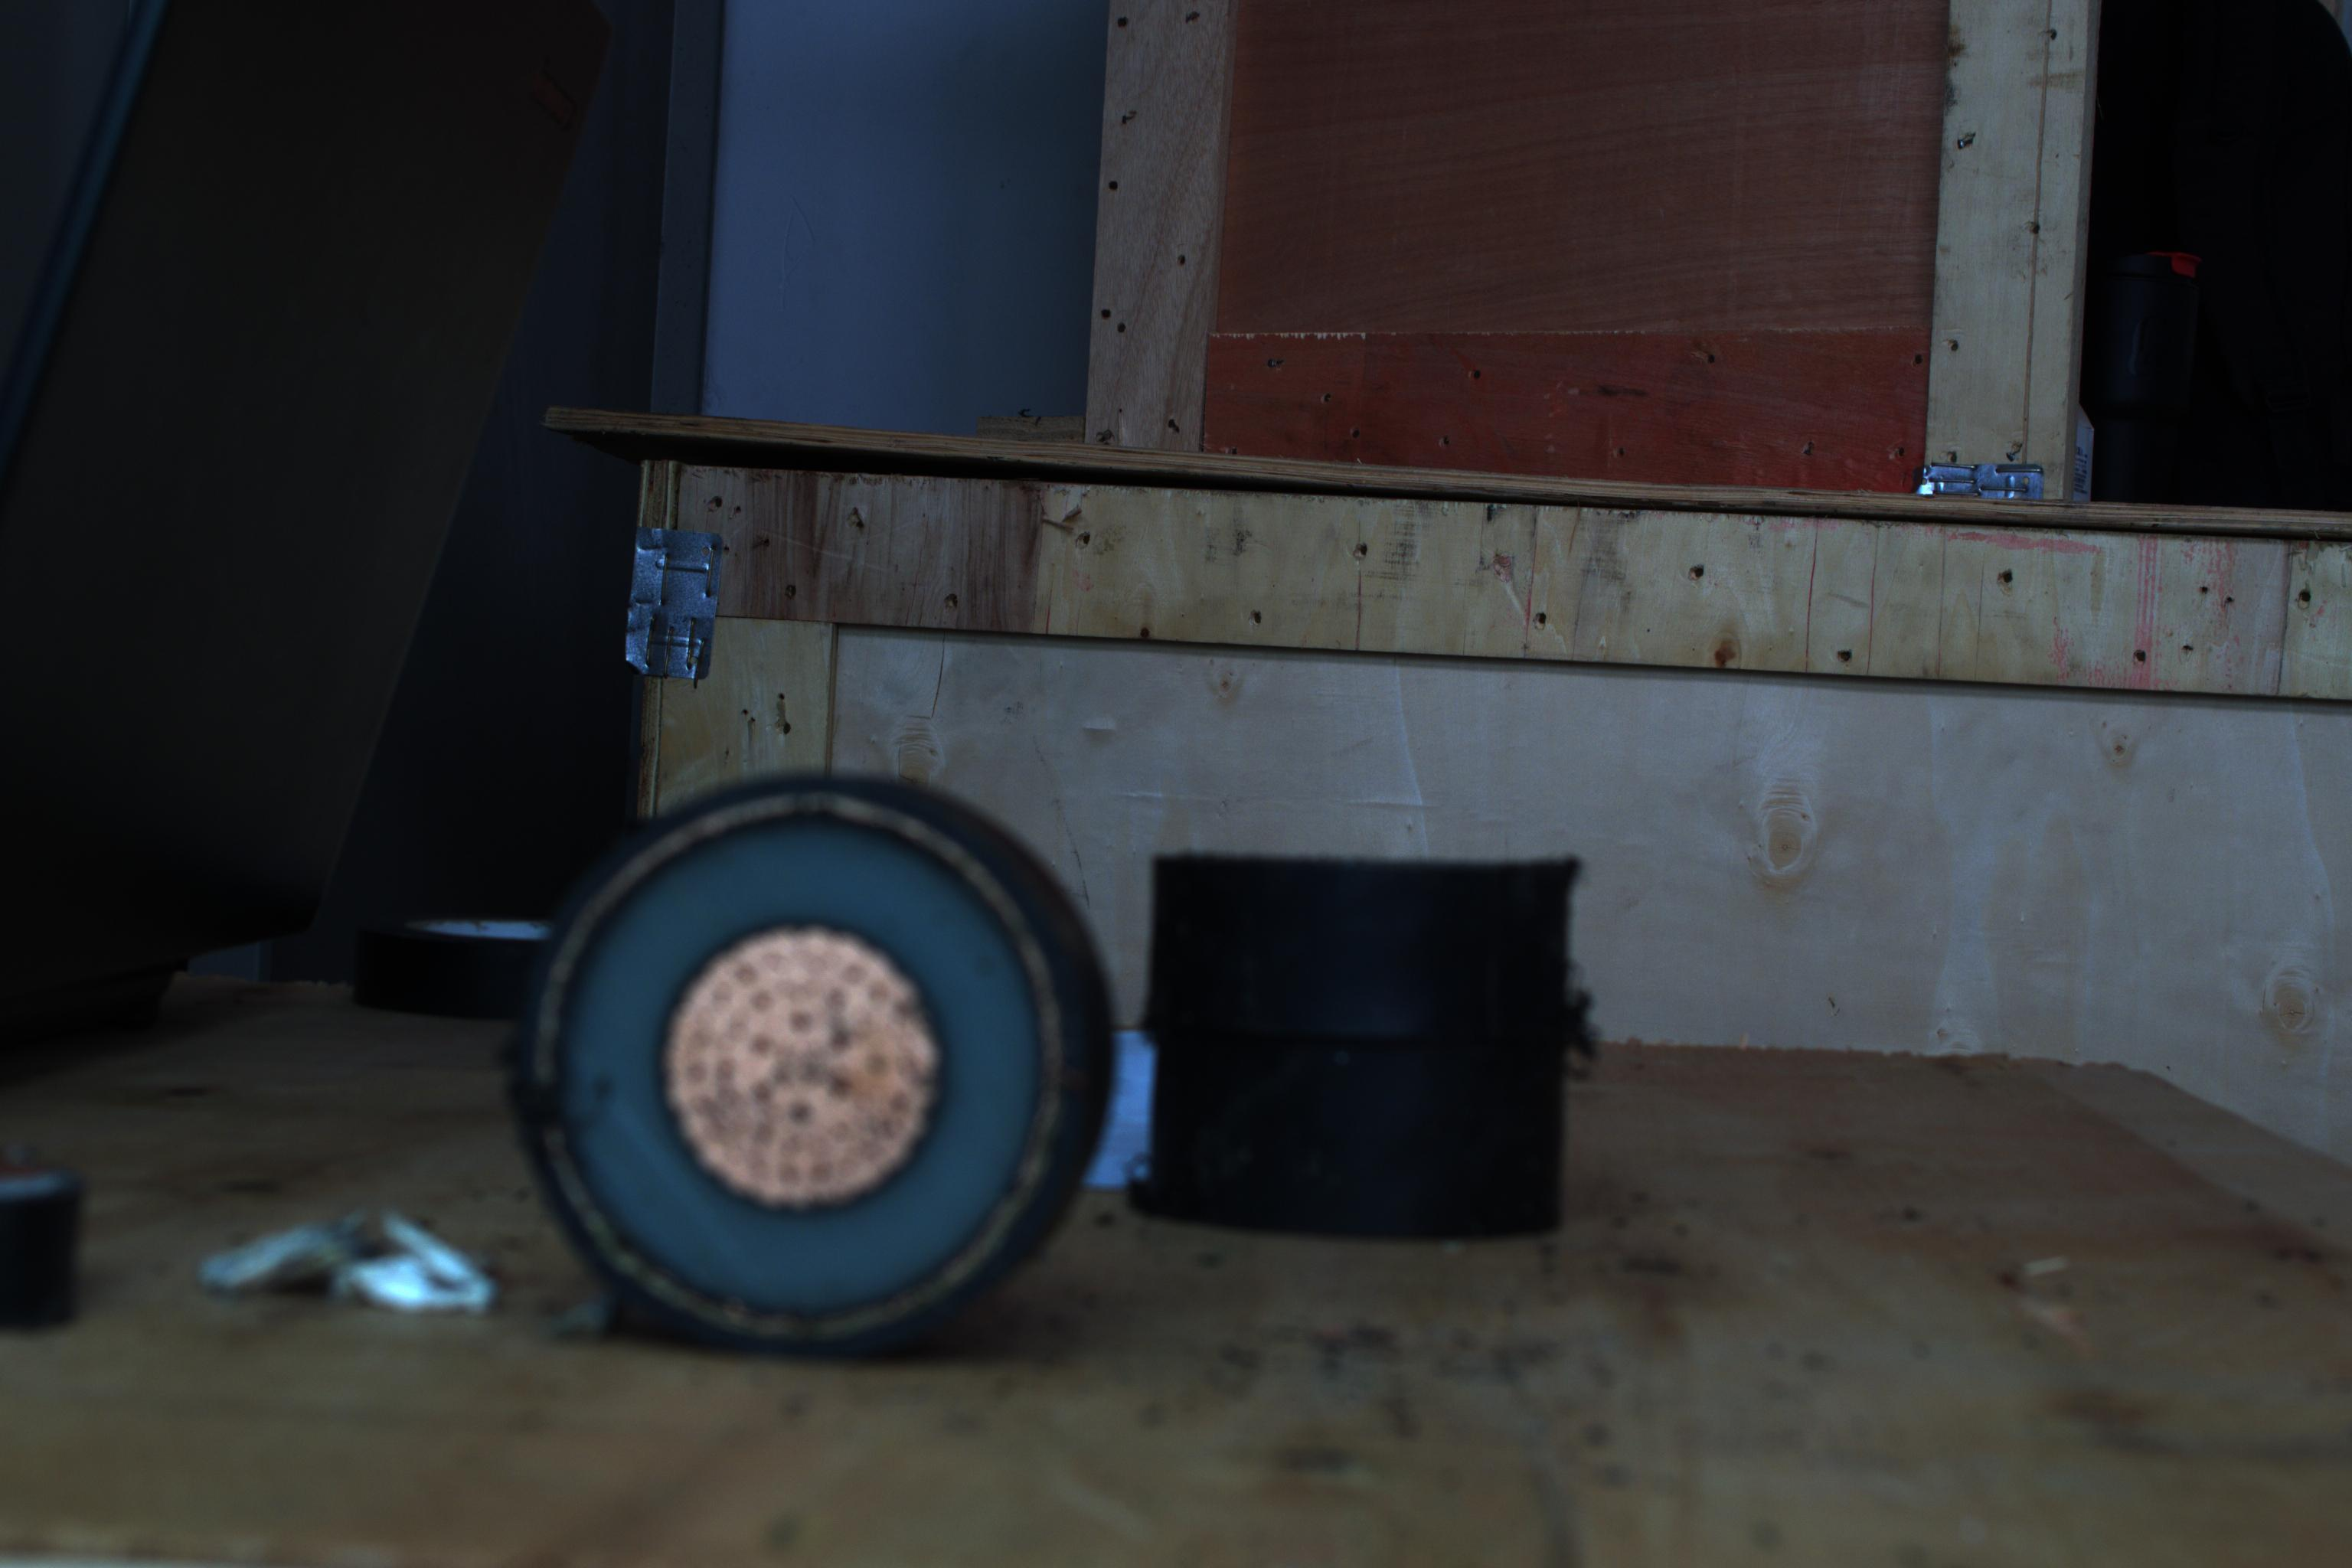YJV_26_35kV_1x630: (525, 798, 1078, 1358)
